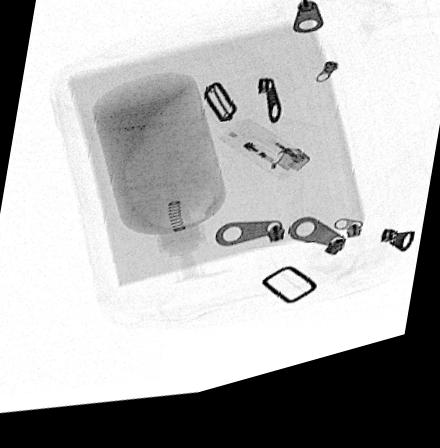Lighter: (218, 131, 310, 195)
